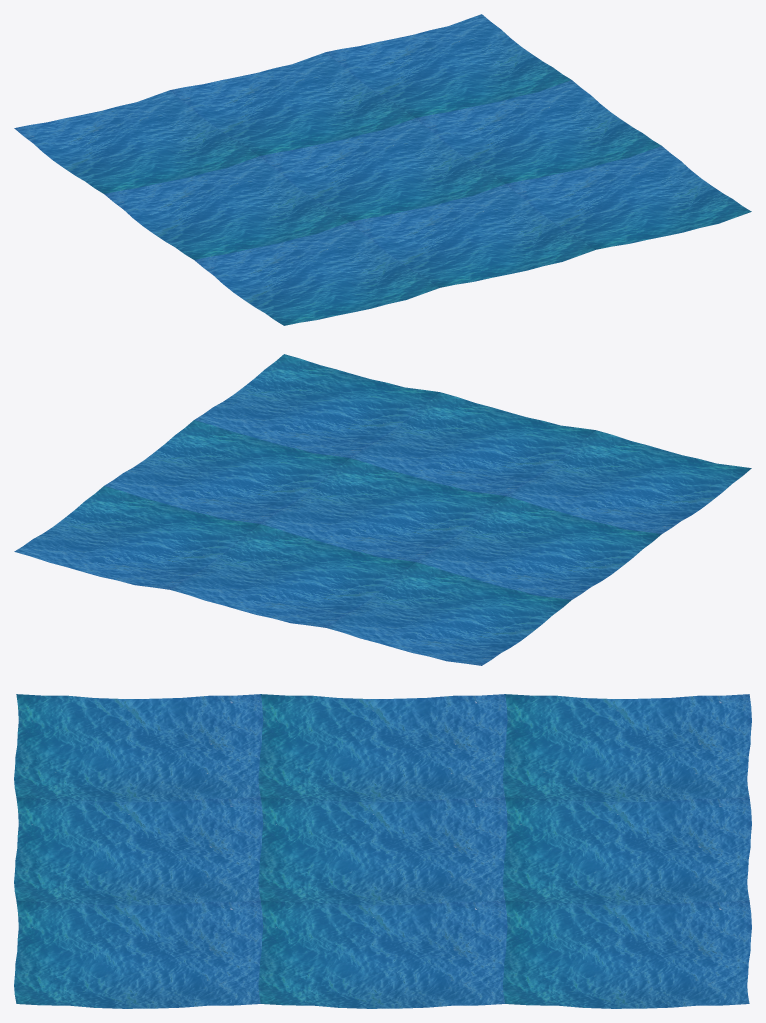
The model's file is ocean_000185.obj.
The picture shows the model from 3 angles, top to bottom: view 1: azimuth 30°, elevation 25°; view 2: azimuth 150°, elevation 25°; view 3: azimuth 270°, elevation 25°; orthographic projection. The views are drawn at different scales.
Parts seen in each view (by area): view 1: Ocean_Plan.001; view 2: Ocean_Plan.001; view 3: Ocean_Plan.001.
Part boxes in pixels (x1,y1,x2,y2): Ocean_Plan.001: (14, 14, 751, 325); Ocean_Plan.001: (14, 354, 751, 665); Ocean_Plan.001: (14, 694, 751, 1008).
Size of the model in its own units: 109050 by 1749 by 109682.
Materials: 1 (1 with a texture image).
